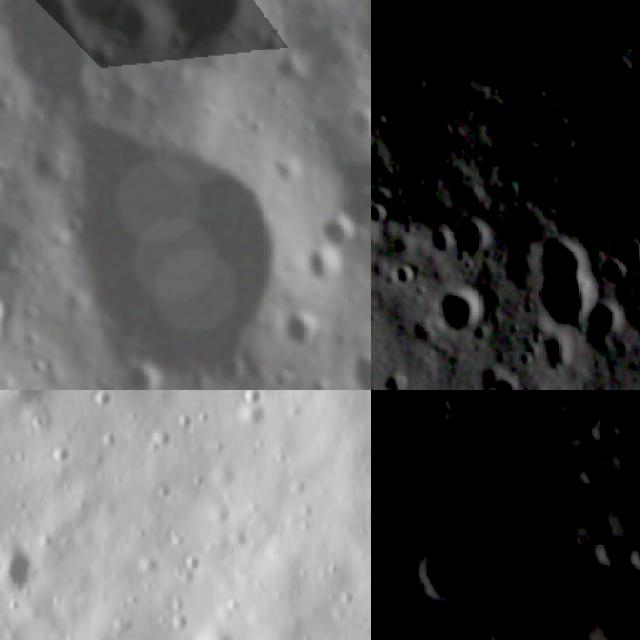crater: (27, 124, 298, 390), (396, 513, 514, 630), (0, 0, 98, 110), (450, 416, 547, 514), (154, 0, 271, 76), (461, 390, 602, 446), (522, 238, 600, 332), (0, 519, 53, 616), (425, 288, 493, 338), (580, 302, 632, 359), (587, 529, 640, 584), (282, 309, 334, 364), (173, 603, 248, 640), (447, 215, 495, 268), (583, 412, 630, 460), (513, 498, 558, 542), (331, 99, 371, 148), (316, 208, 356, 256), (577, 461, 616, 500), (607, 410, 640, 453), (531, 482, 568, 518), (230, 390, 277, 417), (0, 235, 24, 284), (437, 403, 470, 437), (371, 365, 415, 390), (596, 616, 640, 640), (118, 365, 156, 390), (352, 341, 371, 390), (0, 296, 14, 357), (625, 533, 640, 584), (371, 202, 399, 225)
